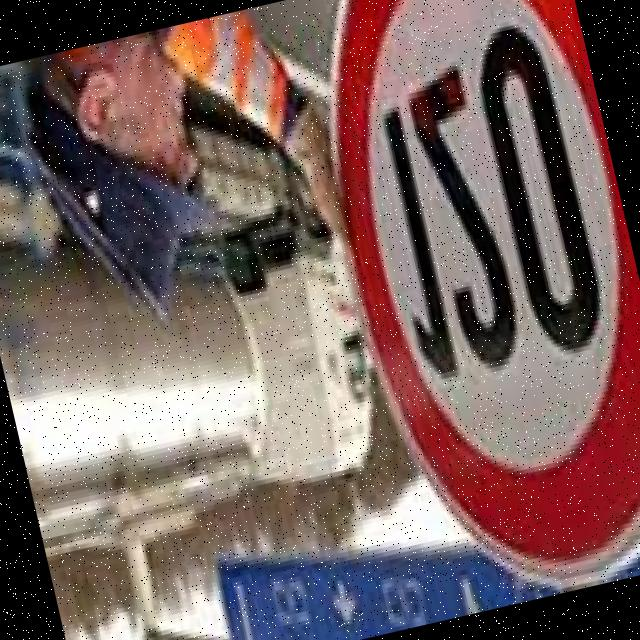speed_limit_120: (284, 0, 640, 619)
